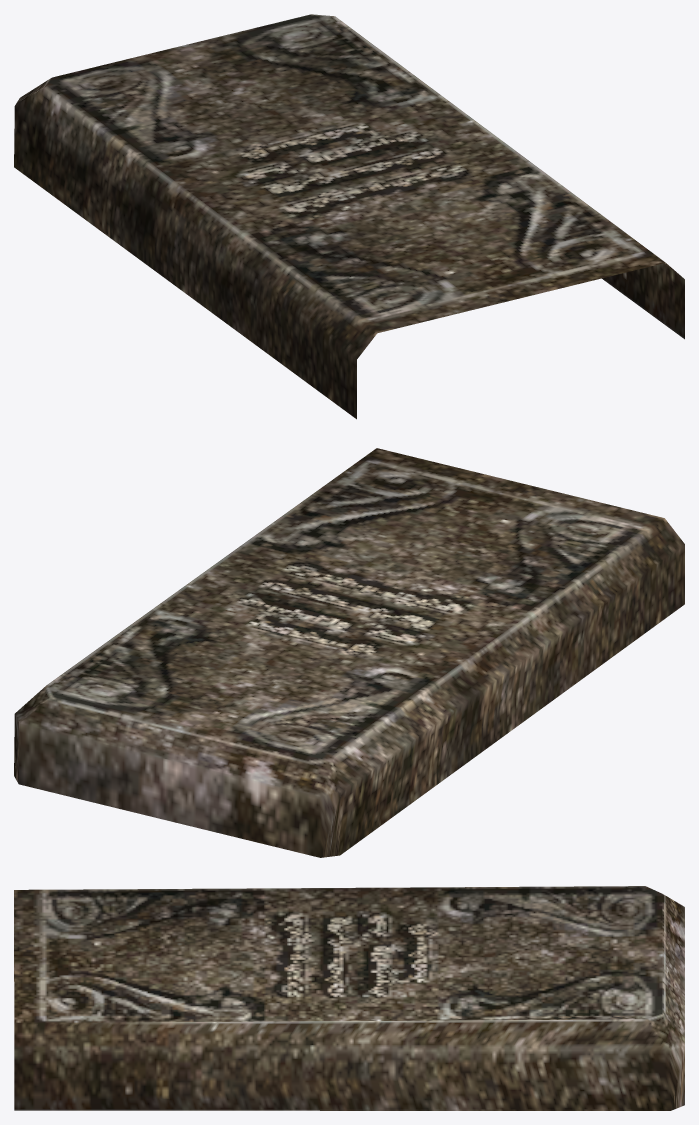
Rendered from cem_tomb4a.glb.
The picture shows the model from 3 angles, top to bottom: view 1: azimuth 30°, elevation 25°; view 2: azimuth 150°, elevation 25°; view 3: azimuth 270°, elevation 25°; orthographic projection. The views are drawn at different scales.
Visible parts, largest first — view 1: cem_tomb4a-col; view 2: cem_tomb4a-col; view 3: cem_tomb4a-col.
Part boxes in pixels (<box>): cem_tomb4a-col: <box>14,14,684,419</box>; cem_tomb4a-col: <box>14,448,684,857</box>; cem_tomb4a-col: <box>14,886,684,1110</box>.
Bounding box in the file's own units: 1.19 × 0.2974 × 2.22.
1 material, 1 textured.
